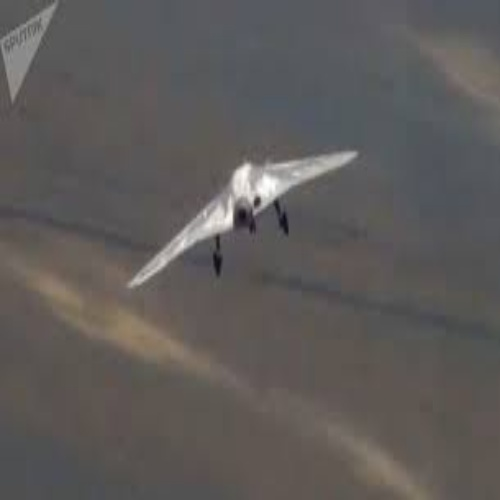uav469: (128, 144, 358, 294)
